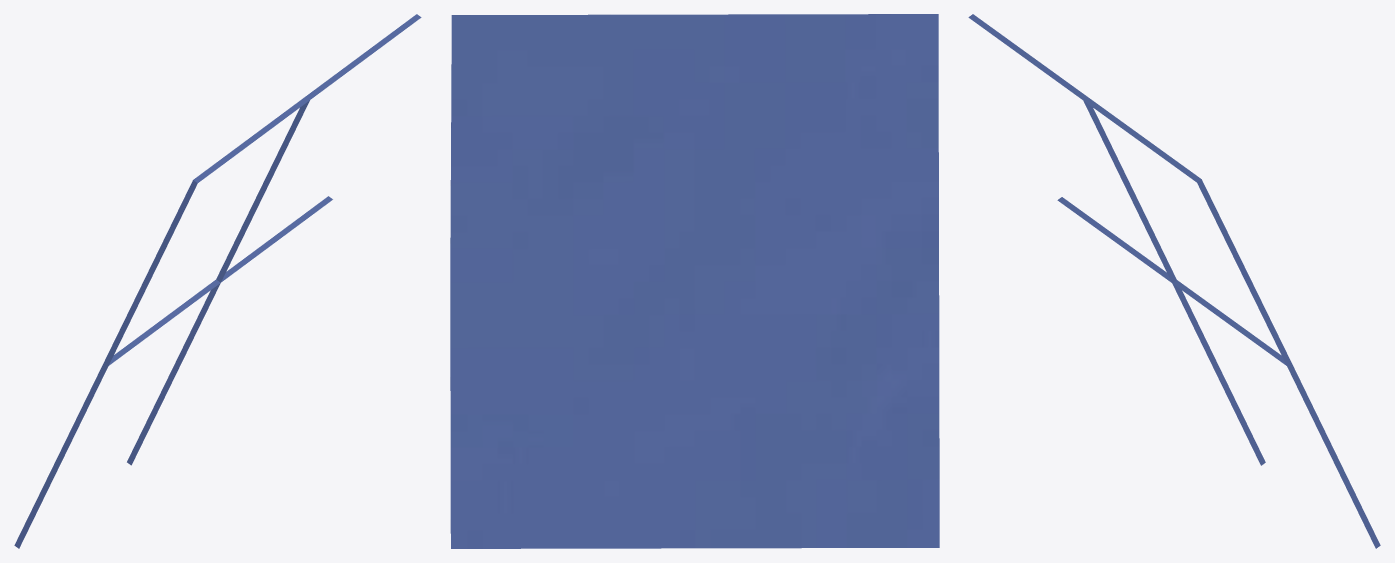
The picture shows the model from 3 angles, left to right: view 1: azimuth 30°, elevation 25°; view 2: azimuth 150°, elevation 25°; view 3: azimuth 270°, elevation 25°; orthographic projection. The views are drawn at different scales.
Size of the model in its own units: 19646 by 17934 by 16274.
1 material, 1 textured.
